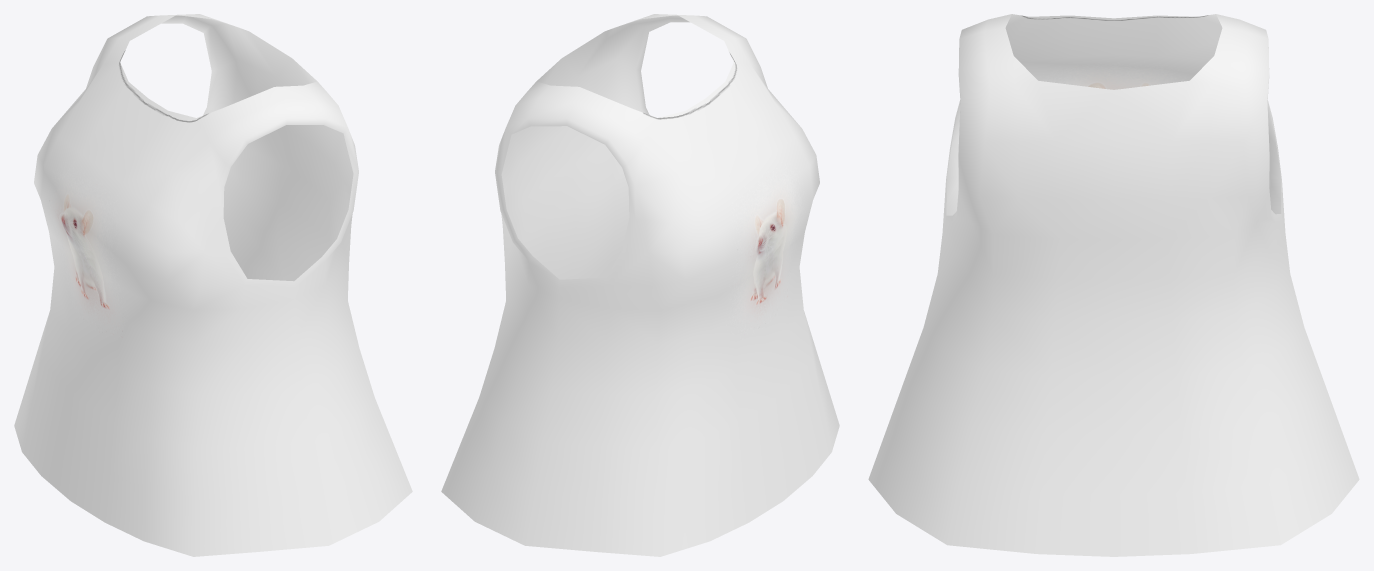
Rendered from shirt_mousetank.gltf.
The picture shows the model from 3 angles, left to right: view 1: azimuth 30°, elevation 25°; view 2: azimuth 150°, elevation 25°; view 3: azimuth 270°, elevation 25°; orthographic projection. The views are drawn at different scales.
Visible parts, largest first — view 1: RefTank; view 2: RefTank; view 3: RefTank.
Boxes of the visible parts, x1,y1,x2,y2 form: RefTank: (14,14,412,556); RefTank: (441,14,839,556); RefTank: (868,14,1359,556).
Size of the model in its own units: 0.2481 by 0.3459 by 0.3354.
1 material, 1 textured.
